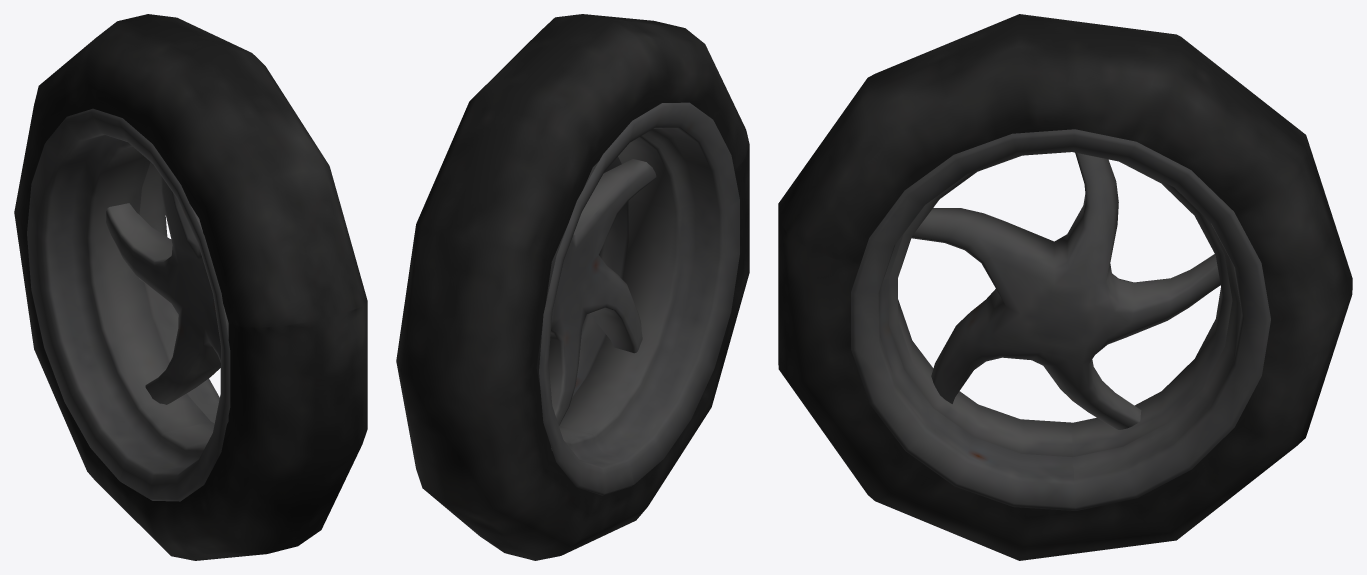
Rendered from G_TokTok_BW.FBX.
3 views of the same model, side by side, from view 1: azimuth 30°, elevation 25°; view 2: azimuth 150°, elevation 25°; view 3: azimuth 270°, elevation 25° (orthographic). The views are drawn at different scales.
Parts seen in each view (by area): view 1: Object001; view 2: Object001; view 3: Object001.
Boxes of the visible parts, left/top/right/bottom form: Object001: left=14, top=14, right=367, bottom=560; Object001: left=396, top=14, right=749, bottom=560; Object001: left=778, top=14, right=1352, bottom=560.
Bounding box in the file's own units: 61.74 × 222 × 219.
Materials: 1 (1 with a texture image).
